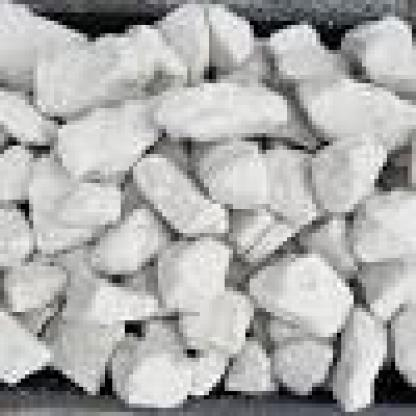Sedimentary_Chalk: (21, 21, 166, 112), (121, 142, 233, 237), (250, 250, 358, 337), (16, 162, 116, 242), (104, 332, 200, 407), (341, 4, 412, 100), (154, 83, 283, 133), (312, 125, 391, 204), (150, 241, 233, 308), (333, 308, 383, 403), (196, 137, 262, 208), (262, 21, 333, 83), (62, 270, 146, 320), (92, 204, 158, 266), (354, 254, 408, 324), (266, 341, 329, 387)
